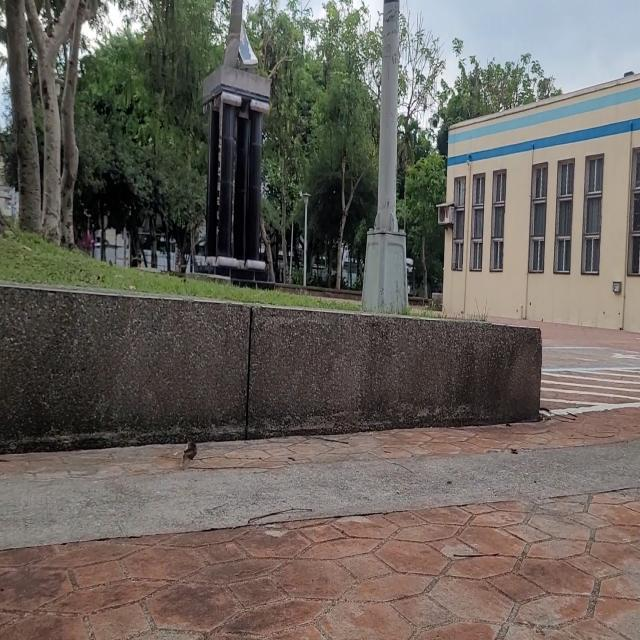Tree: (5, 1, 41, 237), (40, 9, 63, 245), (63, 1, 80, 251)
